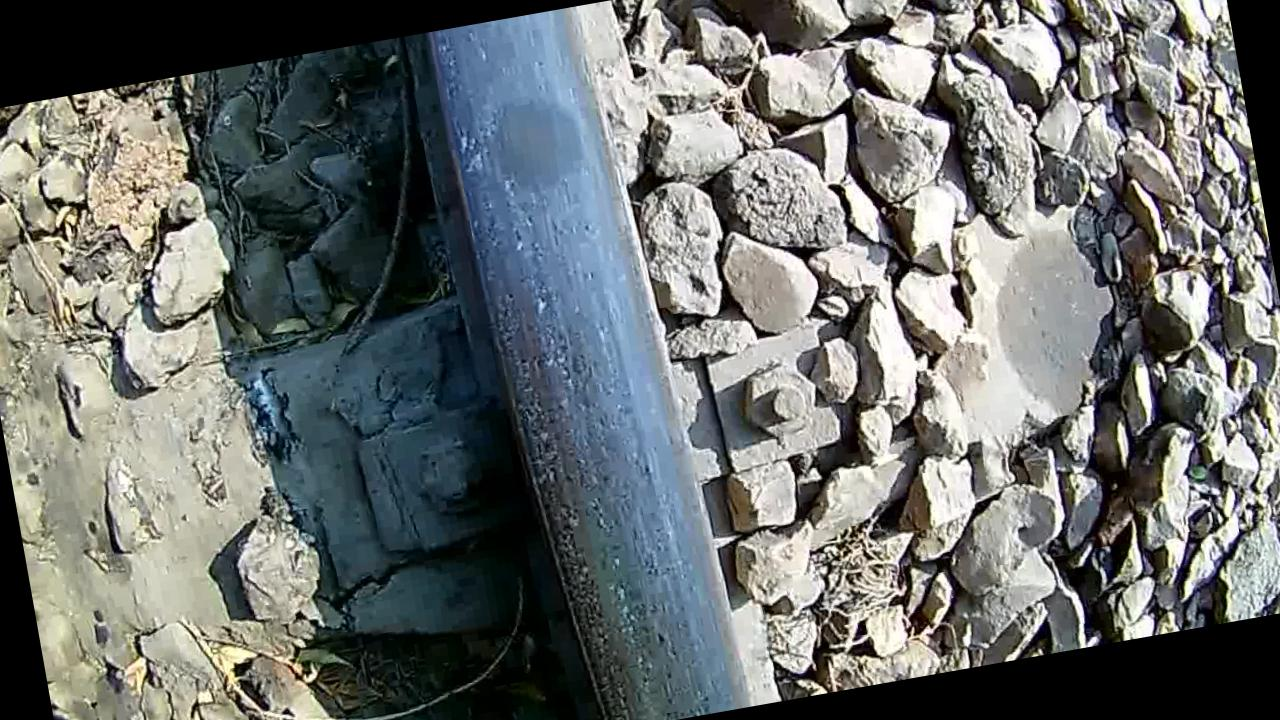bolt_missing: (444, 67, 635, 223)
